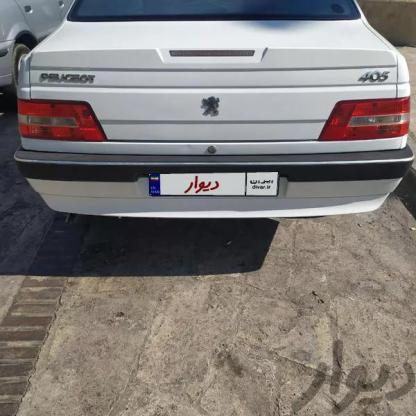Car: (0, 0, 415, 229)
